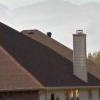Chimney: (59, 24, 91, 92)
